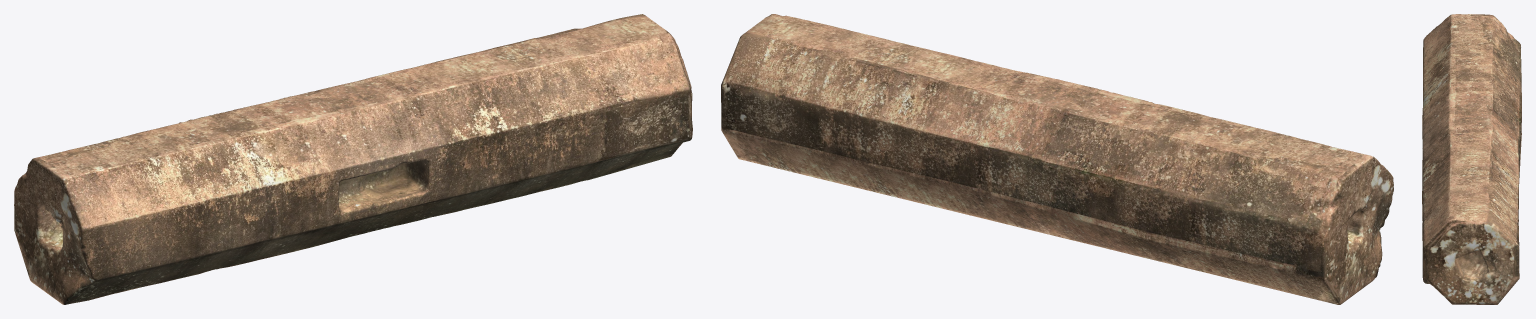
The model's file is 27_MysonSanctuaryB_Trucot_final.glb.
3 renders of one model, left to right at view 1: azimuth 30°, elevation 25°; view 2: azimuth 150°, elevation 25°; view 3: azimuth 270°, elevation 25°, orthographic. The views are drawn at different scales.
Bounding box in the file's own units: 2.51 × 0.502 × 0.5144.
1 material, 1 textured.
